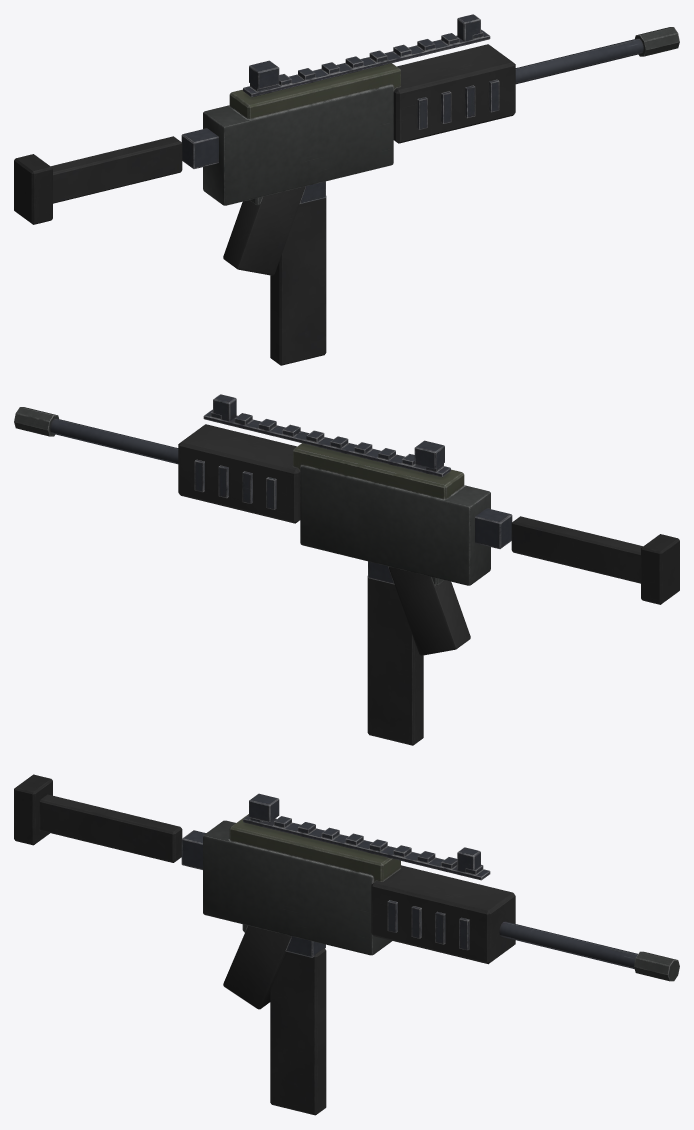
File: weapon_smg.glb
The picture shows the model from 3 angles, top to bottom: view 1: azimuth 30°, elevation 25°; view 2: azimuth 150°, elevation 25°; view 3: azimuth 330°, elevation 25°; orthographic projection.
Visible parts, largest first — view 1: Body, DefaultStock, DefaultMag, DefaultBarrel, IronSights, DefaultMuzzle; view 2: Body, DefaultStock, DefaultMag, DefaultBarrel, IronSights, DefaultMuzzle; view 3: Body, DefaultMag, DefaultStock, DefaultBarrel, IronSights, DefaultMuzzle.
Boxes of the visible parts, bbox=[...] form: Body: bbox=[203, 29, 515, 275]; DefaultStock: bbox=[14, 128, 218, 224]; DefaultMag: bbox=[270, 196, 326, 365]; DefaultBarrel: bbox=[515, 38, 643, 84]; IronSights: bbox=[249, 14, 480, 89]; DefaultMuzzle: bbox=[635, 27, 679, 56]; Body: bbox=[178, 409, 490, 655]; DefaultStock: bbox=[475, 508, 679, 604]; DefaultMag: bbox=[367, 576, 423, 745]; DefaultBarrel: bbox=[50, 418, 178, 464]; IronSights: bbox=[213, 394, 444, 469]; DefaultMuzzle: bbox=[14, 407, 58, 436]; Body: bbox=[203, 814, 515, 1009]; DefaultMag: bbox=[270, 948, 326, 1115]; DefaultStock: bbox=[14, 774, 205, 869]; DefaultBarrel: bbox=[499, 921, 637, 968]; IronSights: bbox=[249, 793, 480, 872]; DefaultMuzzle: bbox=[634, 951, 679, 981].
Size of the model in its own units: 0.7625 by 0.335 by 0.064.
1 material, 1 textured.
